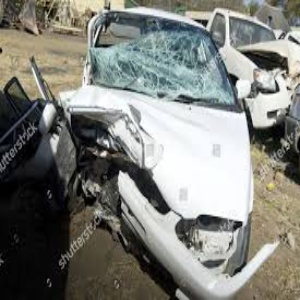bonnet: (80, 96, 196, 166)
front_windshield_glass: (97, 22, 214, 96)
